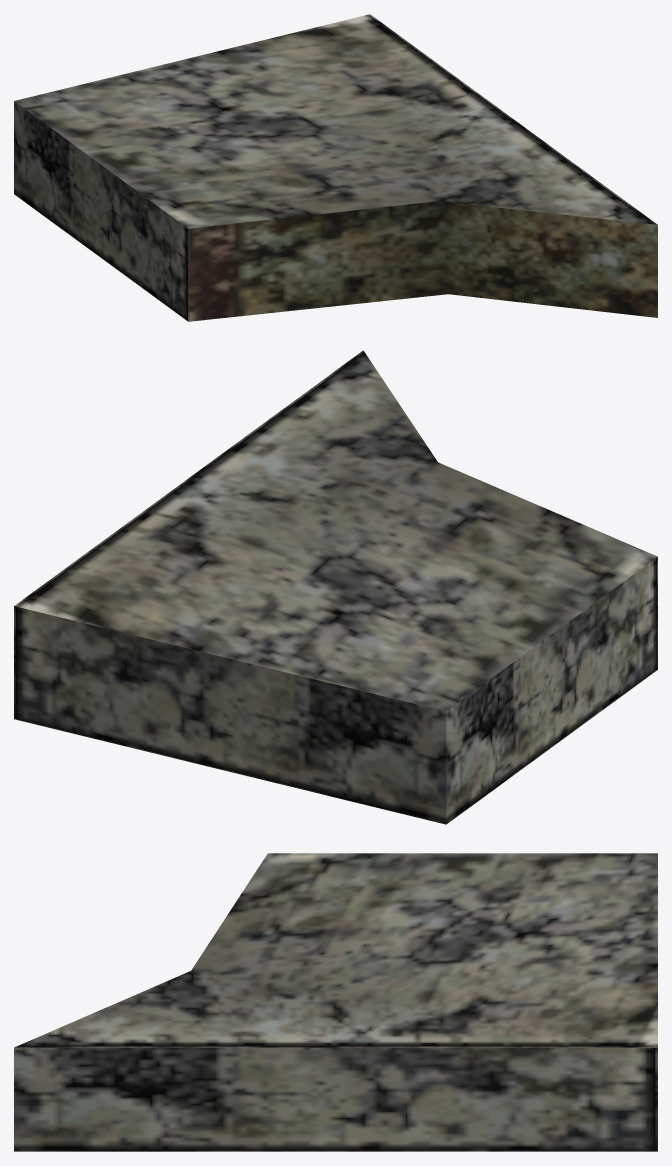
Rendered from M10_Rubble01.glb.
3 renders of one model, top to bottom at view 1: azimuth 30°, elevation 25°; view 2: azimuth 150°, elevation 25°; view 3: azimuth 270°, elevation 25°, orthographic. The views are drawn at different scales.
Parts seen in each view (by area): view 1: M10_RUBBLE01; view 2: M10_RUBBLE01; view 3: M10_RUBBLE01.
Boxes of the visible parts, bbox=[...] form: M10_RUBBLE01: bbox=[14, 14, 657, 321]; M10_RUBBLE01: bbox=[14, 350, 657, 824]; M10_RUBBLE01: bbox=[14, 853, 657, 1151].
Size of the model in its own units: 2 by 0.5 by 2.8.
2 materials, 2 textured.
